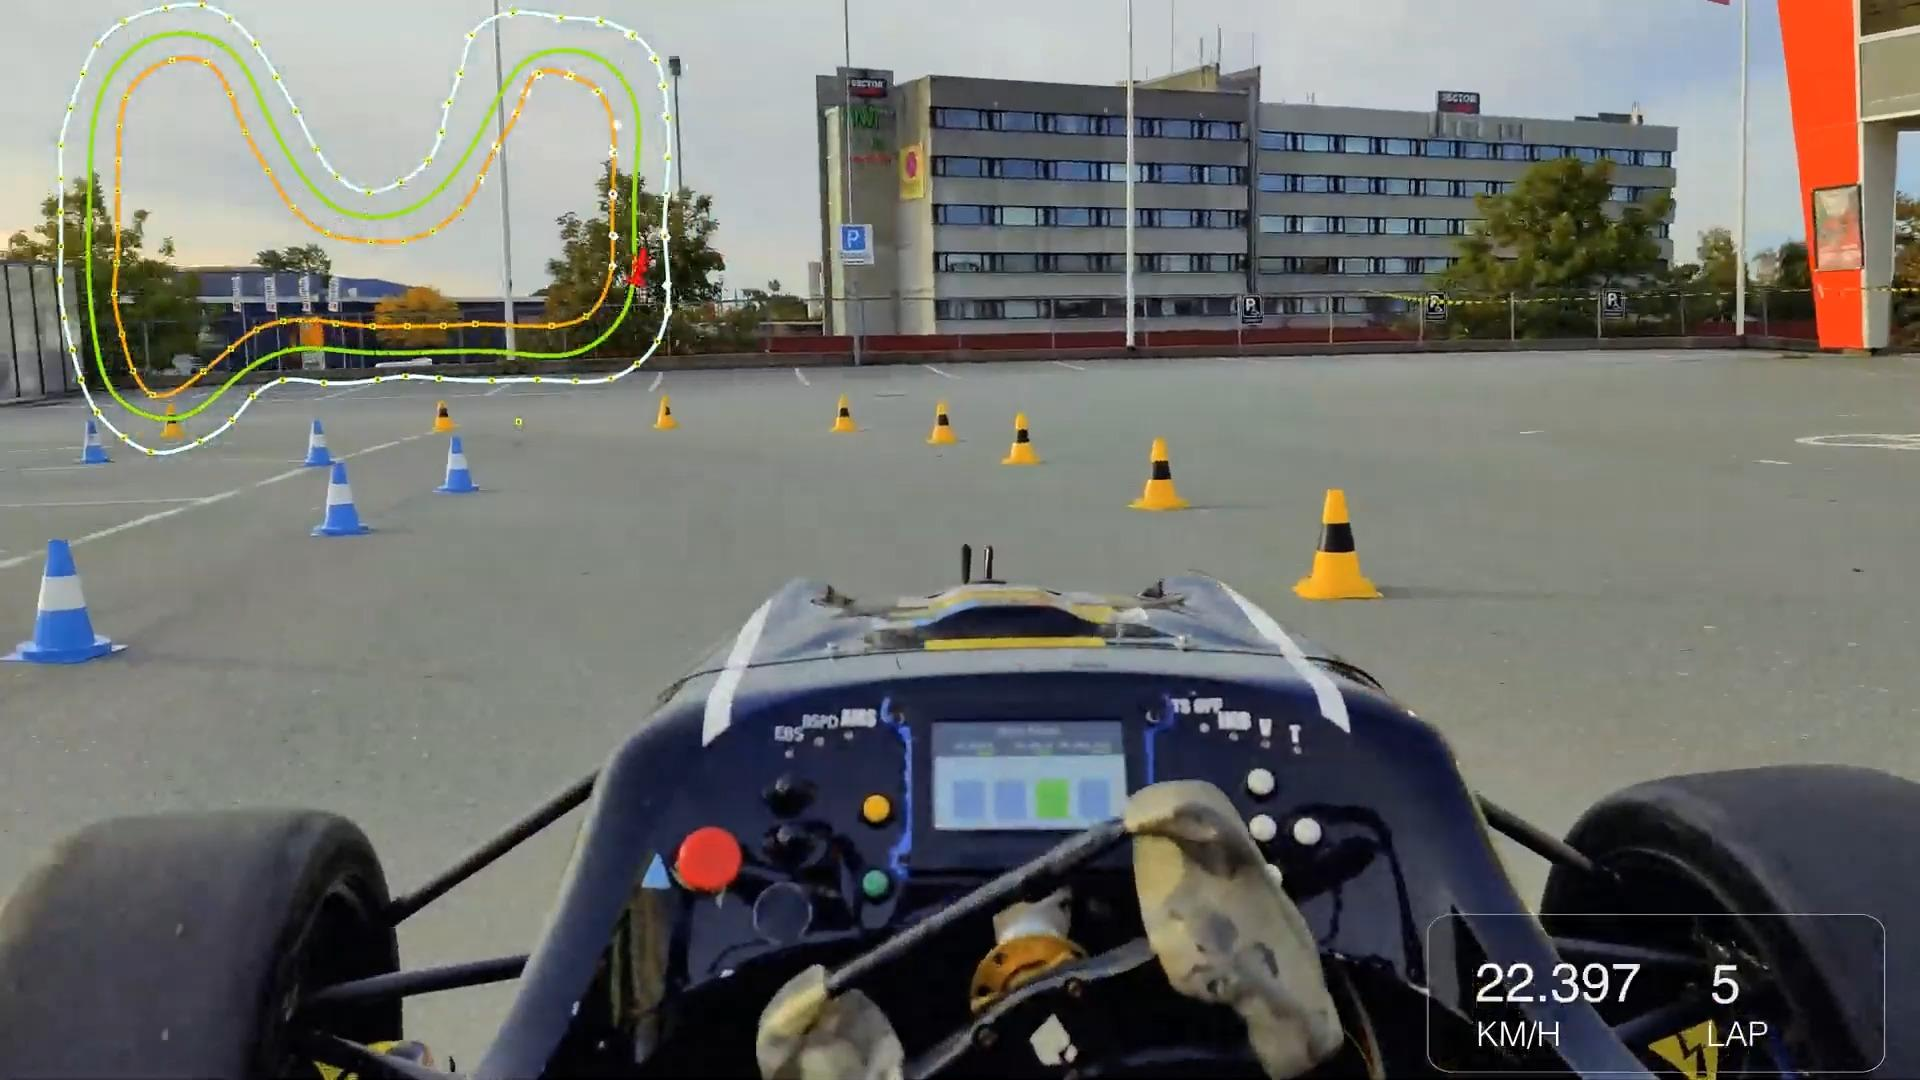blue_cone: (18, 537, 113, 663), (314, 462, 371, 533), (440, 435, 477, 493), (306, 418, 334, 468), (80, 422, 111, 467)
yellow_cone: (1298, 491, 1378, 600), (1134, 438, 1188, 512), (1002, 411, 1046, 465), (928, 400, 960, 448), (161, 405, 189, 440), (431, 400, 458, 431), (833, 397, 856, 434), (654, 398, 676, 431)
